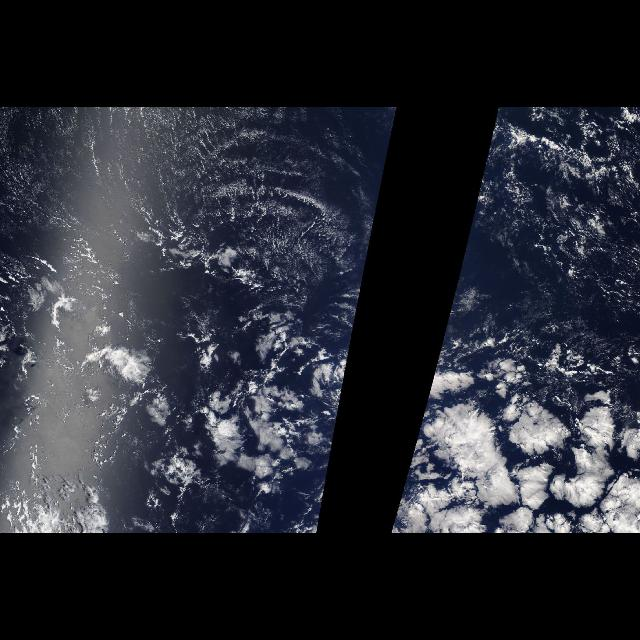Flower: (390, 345, 638, 533), (85, 340, 301, 482)
Sugar: (0, 107, 346, 275)
